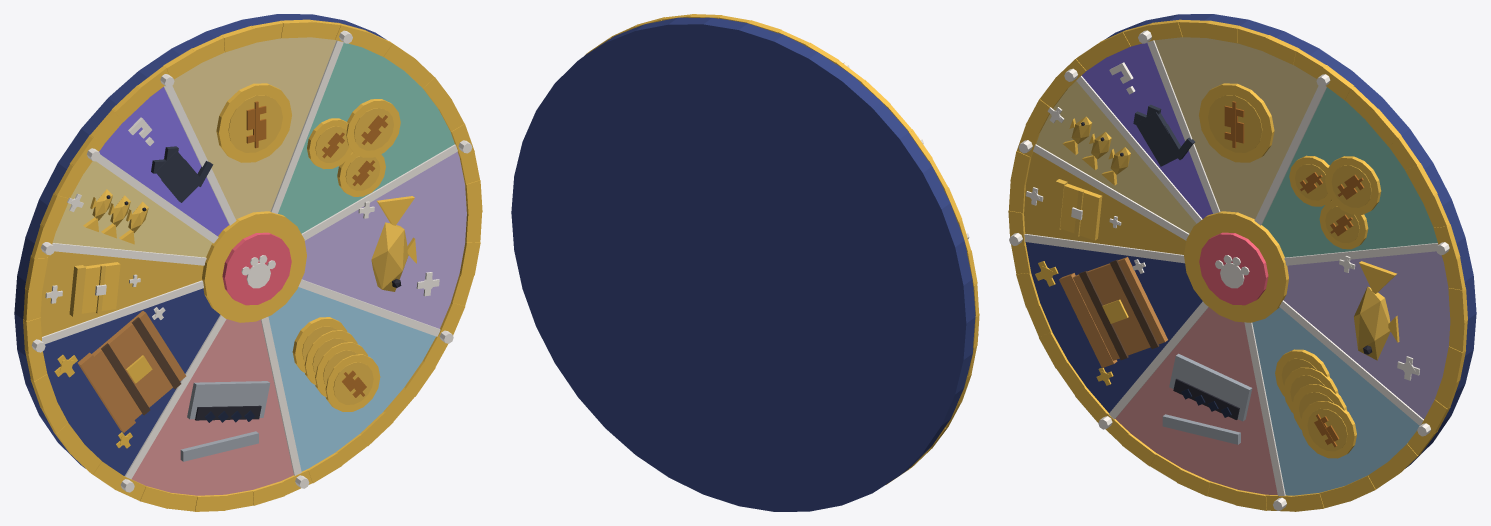
Rendered from CatCafe_Street_SpinWheel_Wheel9.glb.
3 renders of one model, left to right at view 1: azimuth 30°, elevation 25°; view 2: azimuth 150°, elevation 25°; view 3: azimuth 330°, elevation 25°, orthographic.
Parts seen in each view (by area): view 1: CatCafe_Street_SpinWheel_Wheel9; view 2: CatCafe_Street_SpinWheel_Wheel9; view 3: CatCafe_Street_SpinWheel_Wheel9.
Part boxes in pixels (bbox=[...]): CatCafe_Street_SpinWheel_Wheel9: bbox=[14, 14, 482, 511]; CatCafe_Street_SpinWheel_Wheel9: bbox=[511, 14, 979, 511]; CatCafe_Street_SpinWheel_Wheel9: bbox=[1008, 14, 1476, 511].
Size of the model in its own units: 8.46 by 8.46 by 0.6535.
Materials: 1 (1 with a texture image).
